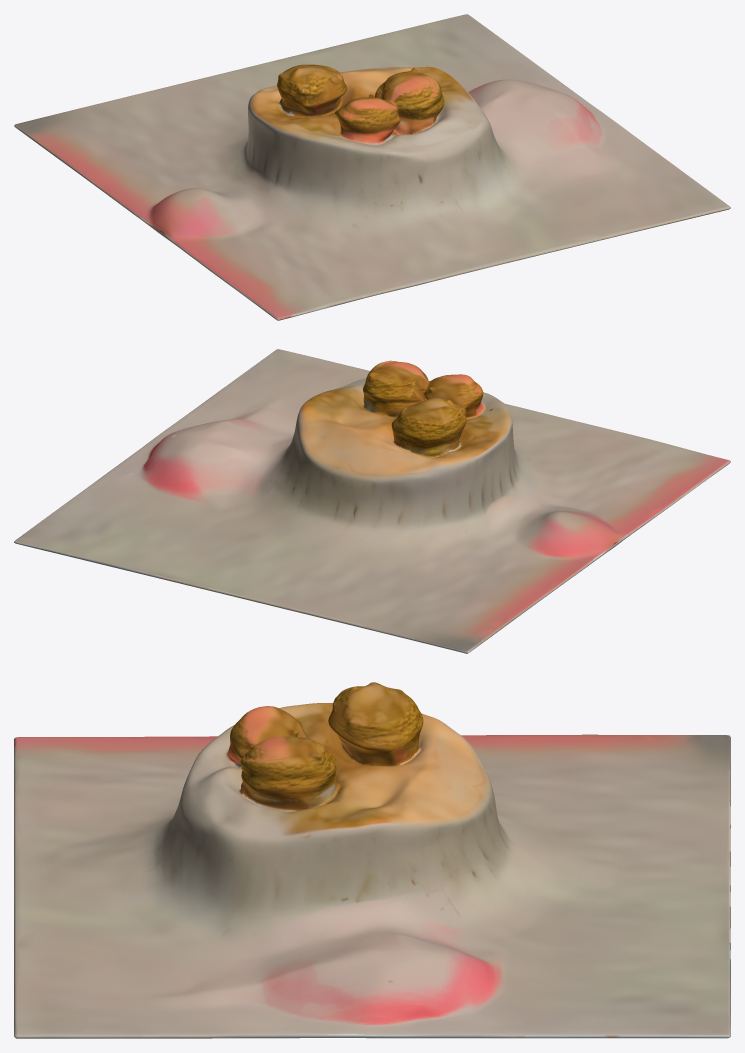
Rendered from coffee-table-failed.glb.
3 views of the same model, one above another, from view 1: azimuth 30°, elevation 25°; view 2: azimuth 150°, elevation 25°; view 3: azimuth 270°, elevation 25° (orthographic). The views are drawn at different scales.
Visible parts, largest first — view 1: textured; view 2: textured; view 3: textured.
Boxes of the visible parts, x1=… form: textured: x1=14, y1=14, x2=730, y2=320; textured: x1=14, y1=349, x2=730, y2=653; textured: x1=14, y1=682, x2=730, y2=1038.
Bounding box in the file's own units: 1.98 × 0.4862 × 1.99.
1 material, 1 textured.
